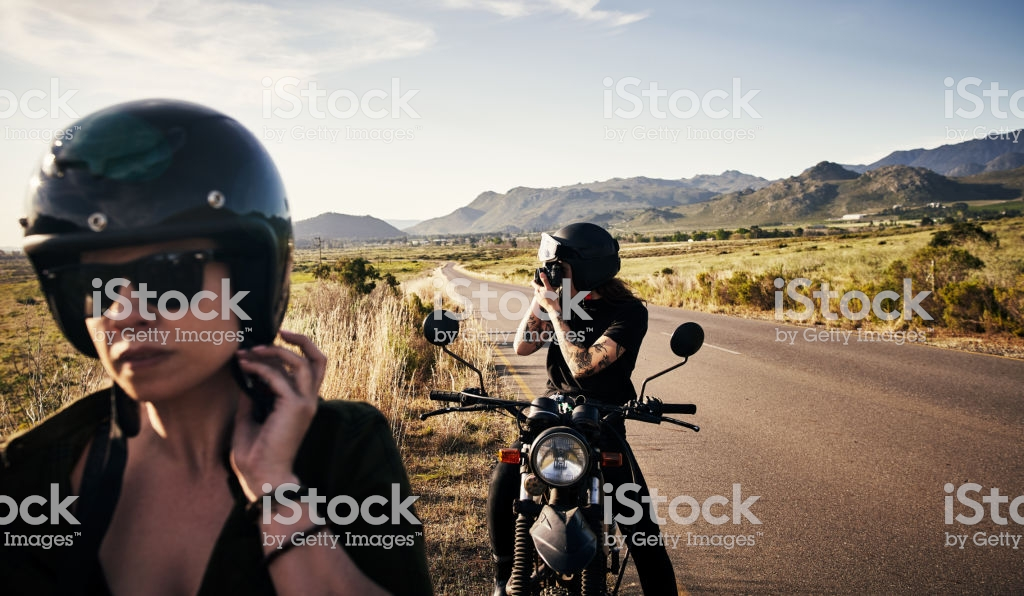helmet: (24, 102, 298, 323), (539, 218, 617, 284)
